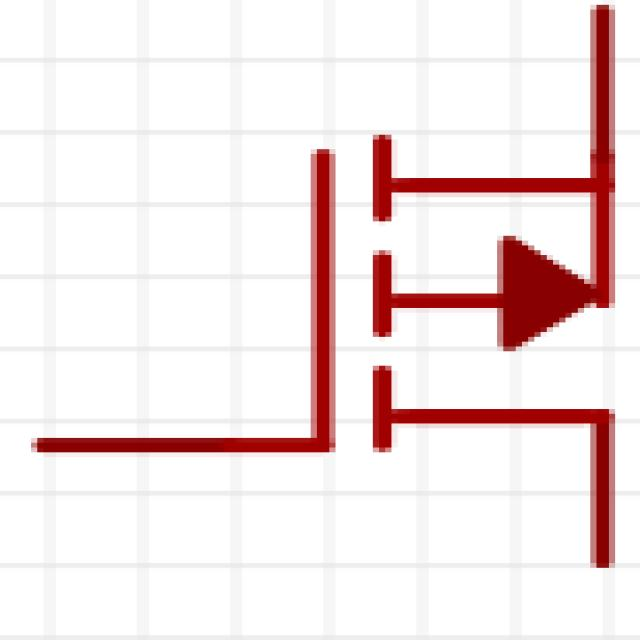pmos: (12, 48, 640, 611)
